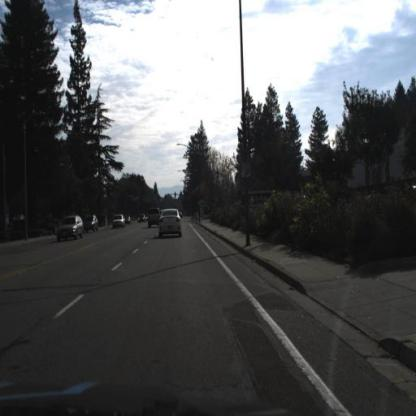car: (159, 206, 183, 236), (55, 215, 85, 238), (147, 208, 161, 231), (85, 214, 100, 232), (110, 215, 125, 227)
